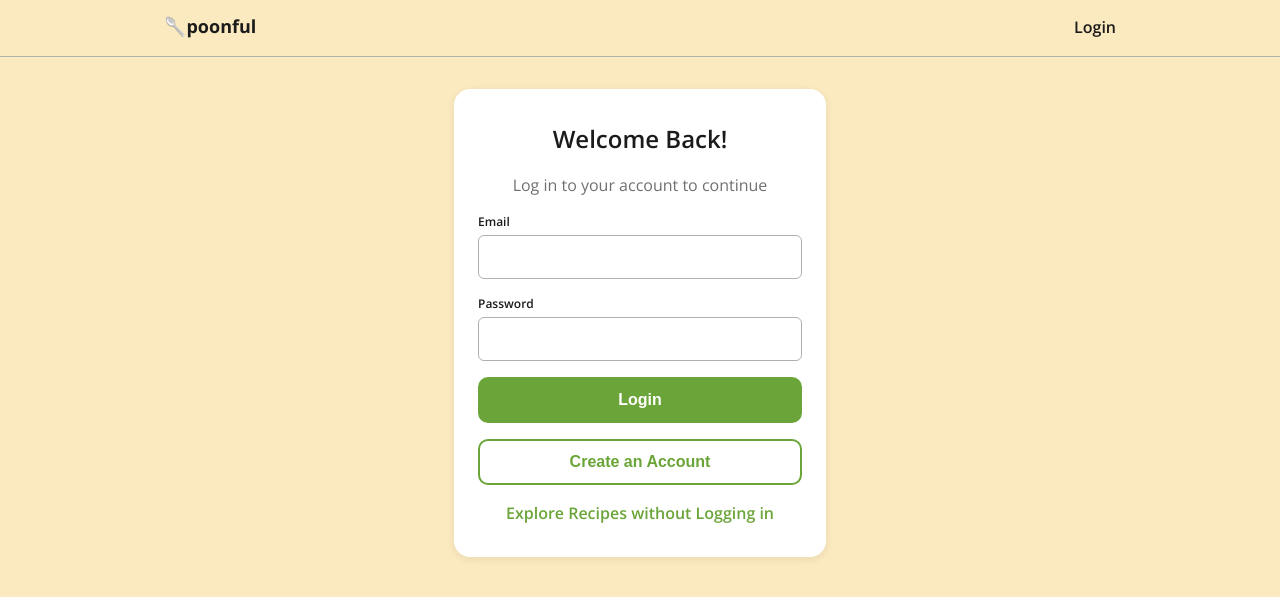
Test: Login › shows an error message when login fails
This screenshot has width=1280, height=597.
Type "user@example.com" into the field labelled "Email". click: {"x": 640, "y": 257}
box: [478,235,802,279]
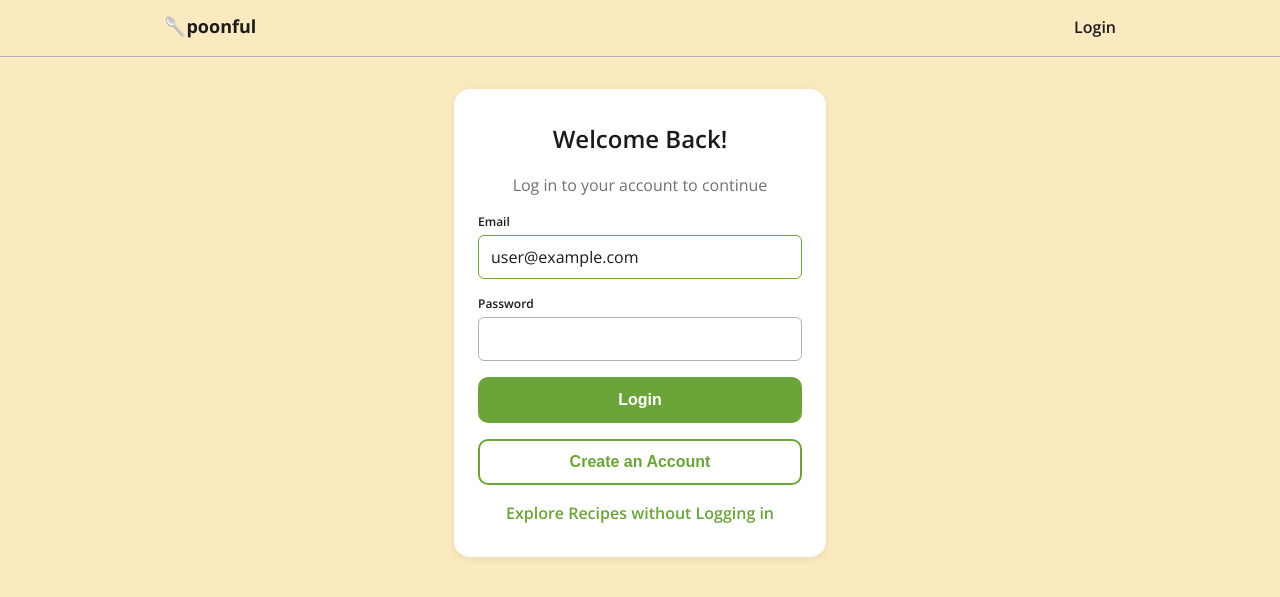
Type "wrongpassword" into the password field labelled "Password". click: {"x": 640, "y": 339}
box: [478,317,802,361]
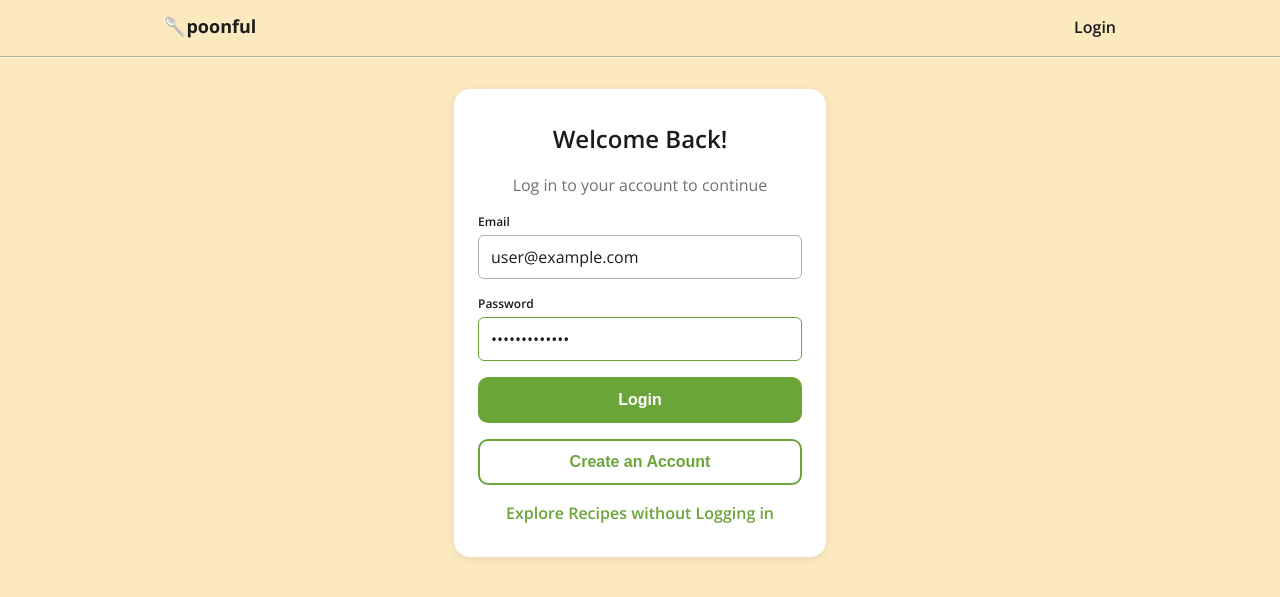
Click the button "Login". click: {"x": 640, "y": 400}
box: [478,377,802,423]
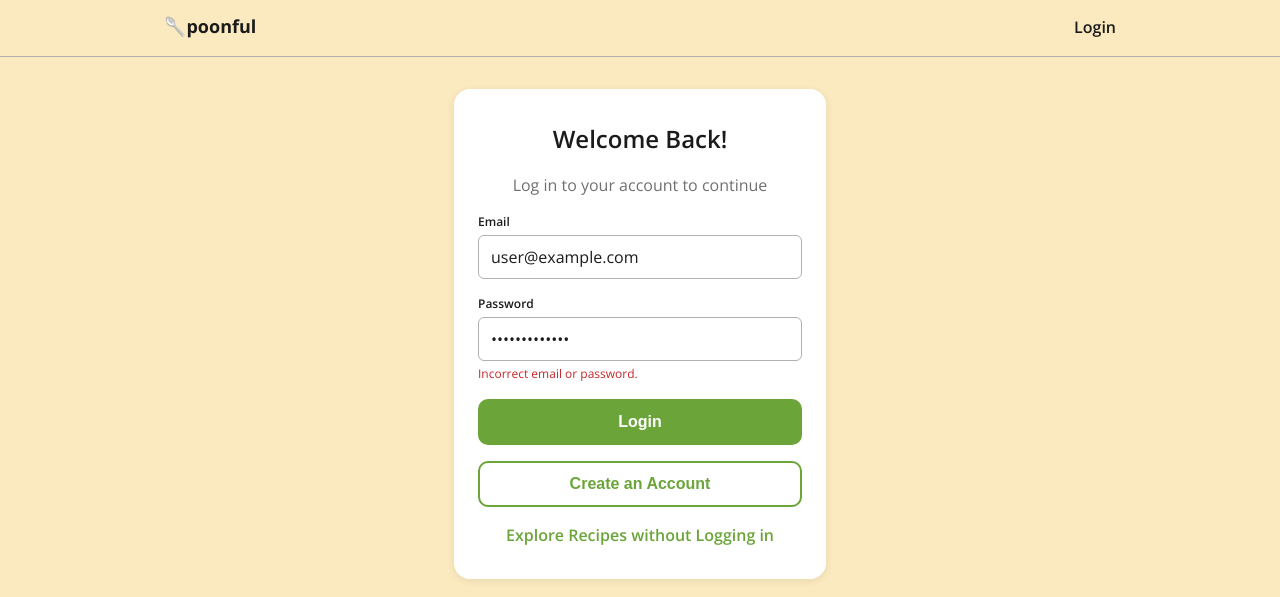
Expected: the text "Incorrect email or password." is shown, [478,365,638,382]
